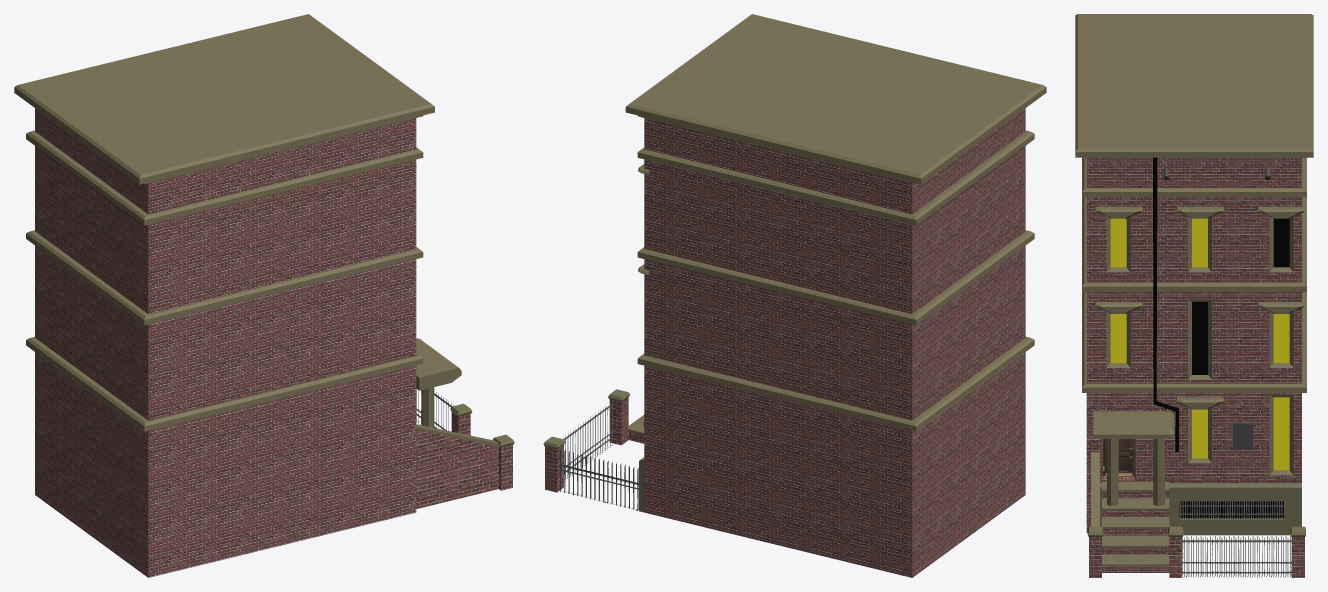
The model's file is terrace.fbx.
The picture shows the model from 3 angles, left to right: view 1: azimuth 30°, elevation 25°; view 2: azimuth 150°, elevation 25°; view 3: azimuth 270°, elevation 25°; orthographic projection. The views are drawn at different scales.
Visible parts, largest first — view 1: Cube, Cube.001, Cube.006, Cylinder.001; view 2: Cube, Cube.001, Cube.005, Cube.006; view 3: Cube, Cube.001, Cube.002, Cylinder.001, Cube.004, Cube.005, Cube.006, Cylinder, Cube.003.
Part boxes in pixels (x1=…): Cube: x1=35, y1=108, x2=416, y2=577; Cube.001: x1=14, y1=14, x2=434, y2=431; Cube.006: x1=416, y1=403, x2=514, y2=508; Cylinder.001: x1=416, y1=338, x2=461, y2=427; Cube: x1=639, y1=108, x2=1025, y2=577; Cube.001: x1=625, y1=14, x2=1046, y2=431; Cube.005: x1=558, y1=402, x2=638, y2=510; Cube.006: x1=543, y1=389, x2=630, y2=492; Cube: x1=1086, y1=158, x2=1301, y2=535; Cube.001: x1=1075, y1=14, x2=1313, y2=392; Cube.002: x1=1102, y1=481, x2=1169, y2=572; Cylinder.001: x1=1093, y1=411, x2=1174, y2=505; Cube.004: x1=1094, y1=204, x2=1305, y2=409; Cube.005: x1=1182, y1=536, x2=1291, y2=577; Cube.006: x1=1087, y1=452, x2=1305, y2=577; Cylinder: x1=1153, y1=157, x2=1178, y2=452; Cube.003: x1=1233, y1=422, x2=1253, y2=449.
Size of the model in its own units: 511 by 524 by 291.
